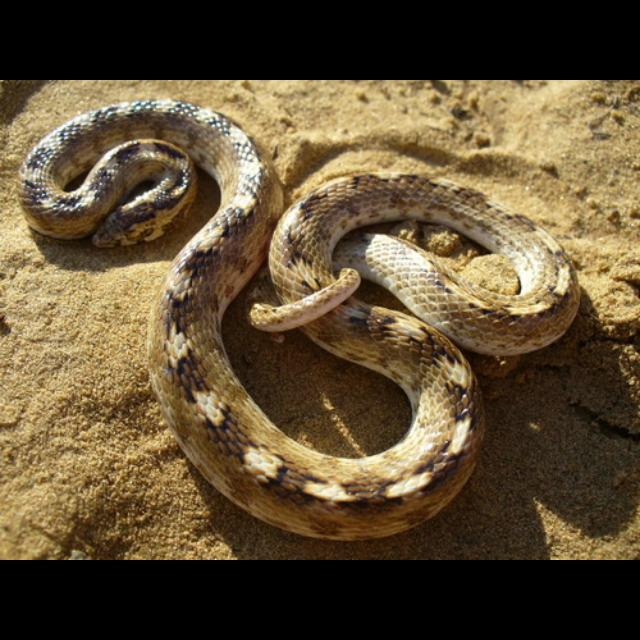snake: (19, 98, 579, 546)
